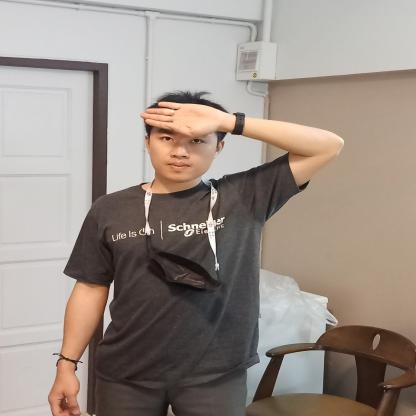Sick: (111, 89, 317, 192)
